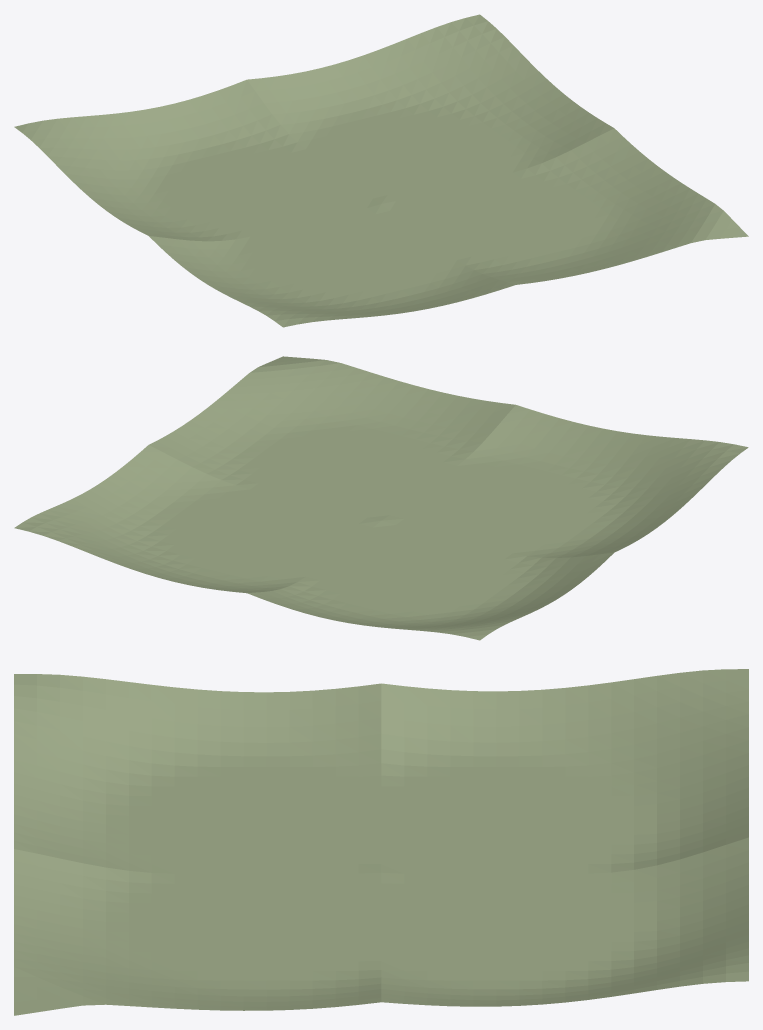
The model's file is gardens-3-0.glb.
3 renders of one model, top to bottom at view 1: azimuth 30°, elevation 25°; view 2: azimuth 150°, elevation 25°; view 3: azimuth 270°, elevation 25°, orthographic. The views are drawn at different scales.
Visible parts, largest first — view 1: gardens-3-0; view 2: gardens-3-0; view 3: gardens-3-0.
Boxes of the visible parts, x1=… form: gardens-3-0: x1=14, y1=14, x2=748, y2=327; gardens-3-0: x1=14, y1=356, x2=748, y2=640; gardens-3-0: x1=14, y1=669, x2=748, y2=1015.
Bounding box in the file's own units: 256 × 18.99 × 256.
